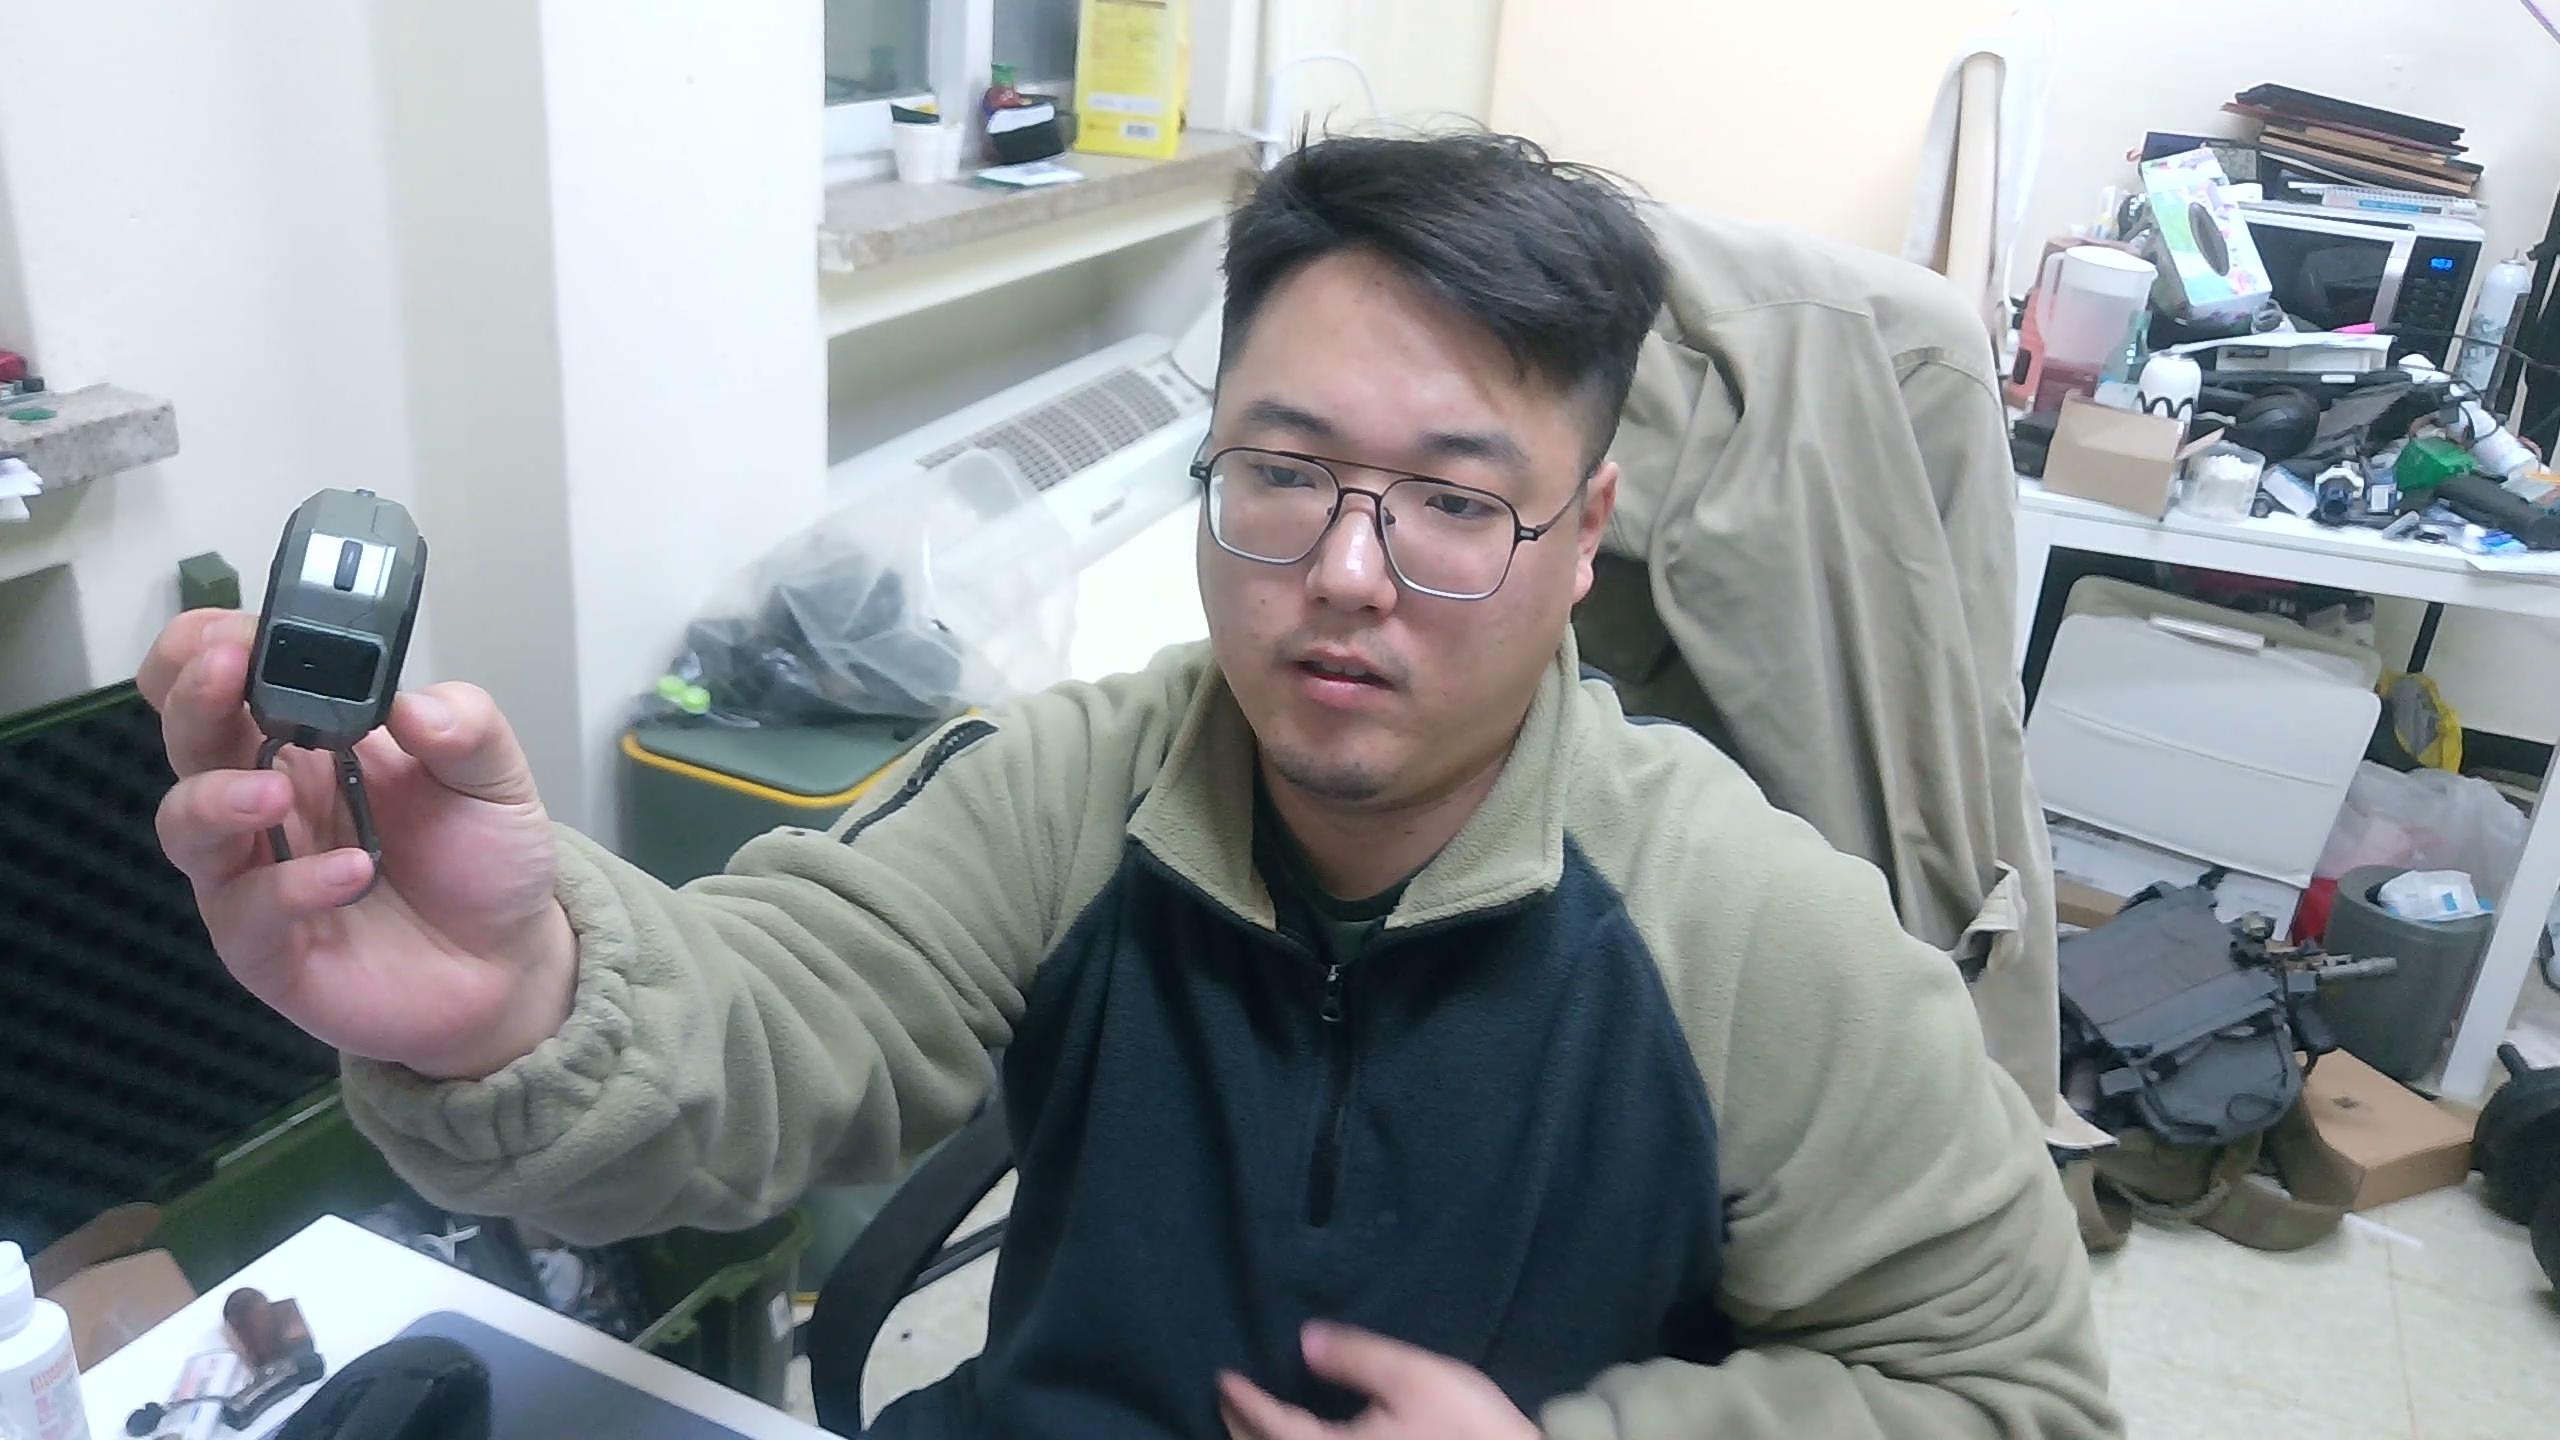blue_pliers: (244, 484, 434, 865)
